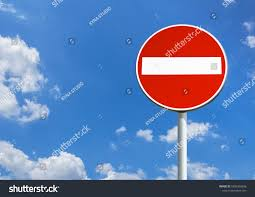No entry: (136, 25, 227, 111)
